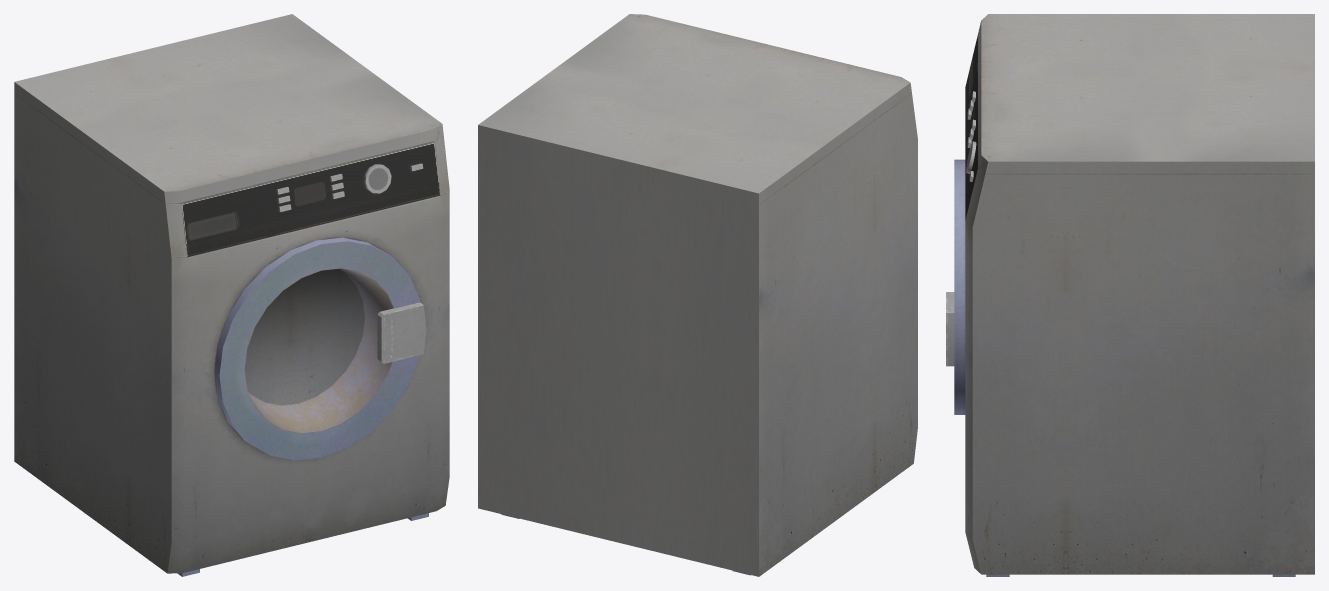
The model's file is Washing machine.FBX.
3 renders of one model, left to right at view 1: azimuth 30°, elevation 25°; view 2: azimuth 150°, elevation 25°; view 3: azimuth 270°, elevation 25°, orthographic. The views are drawn at different scales.
Parts seen in each view (by area): view 1: WashingMachine; view 2: WashingMachine; view 3: WashingMachine.
Boxes of the visible parts, x1,y1,x2,y2 form: WashingMachine: (14,14,449,576); WashingMachine: (478,14,917,576); WashingMachine: (946,14,1314,576).
Bounding box in the file's own units: 66.17 × 88.36 × 69.83.
1 material, 1 textured.
